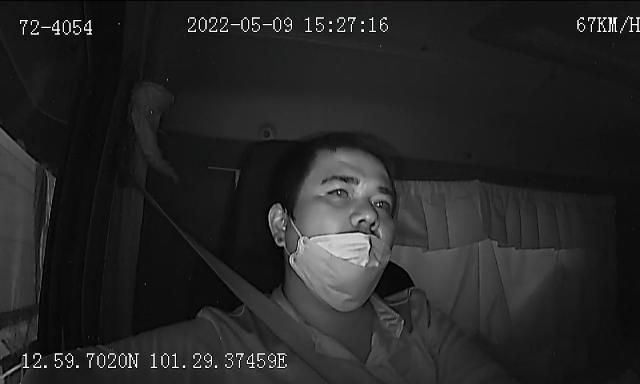SafeDriving: (322, 180, 356, 204), (367, 190, 396, 214)
Seatbelt: (156, 200, 384, 384)
